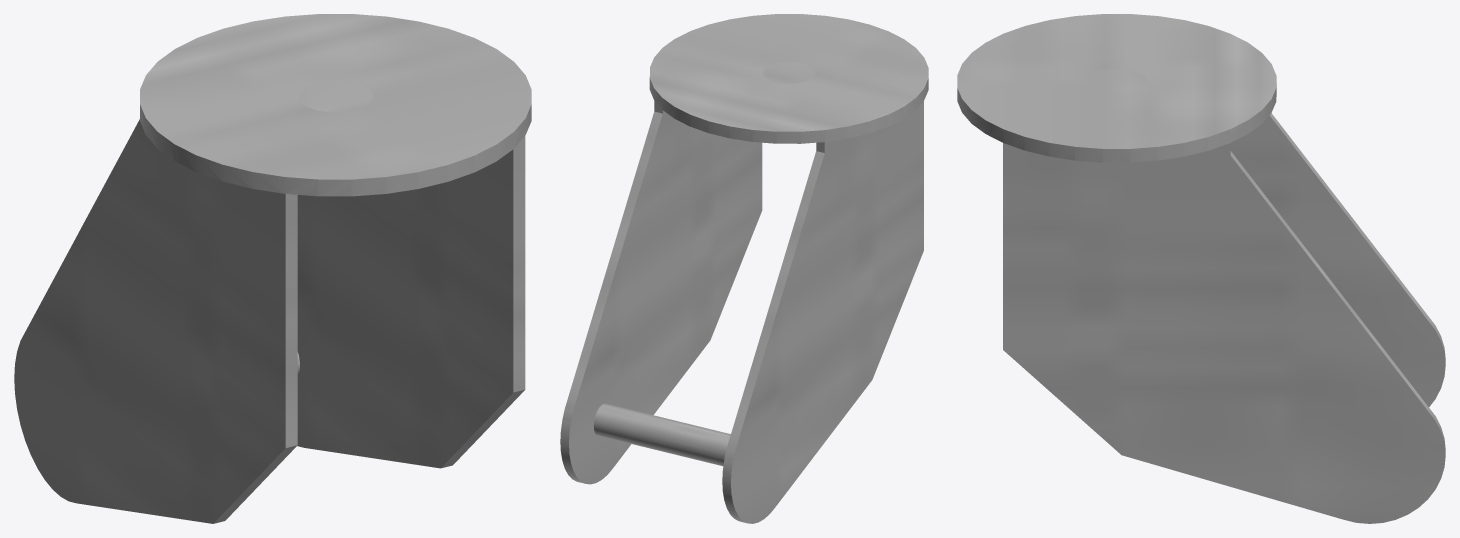
The model's file is Stuetzrad_Halter.dae.
3 views of the same model, side by side, from view 1: azimuth 30°, elevation 25°; view 2: azimuth 150°, elevation 25°; view 3: azimuth 270°, elevation 25° (orthographic). The views are drawn at different scales.
Parts seen in each view (by area): view 1: SketchUp (×3); view 2: SketchUp (×2); view 3: SketchUp (×2).
Boxes of the visible parts, x1=… form: SketchUp (×3): x1=14, y1=14, x2=531, y2=523; SketchUp (×2): x1=560, y1=14, x2=928, y2=523; SketchUp (×2): x1=957, y1=14, x2=1445, y2=523.
Bounding box in the file's own units: 1.66 × 2.53 × 2.26.
Materials: 1 (1 with a texture image).
